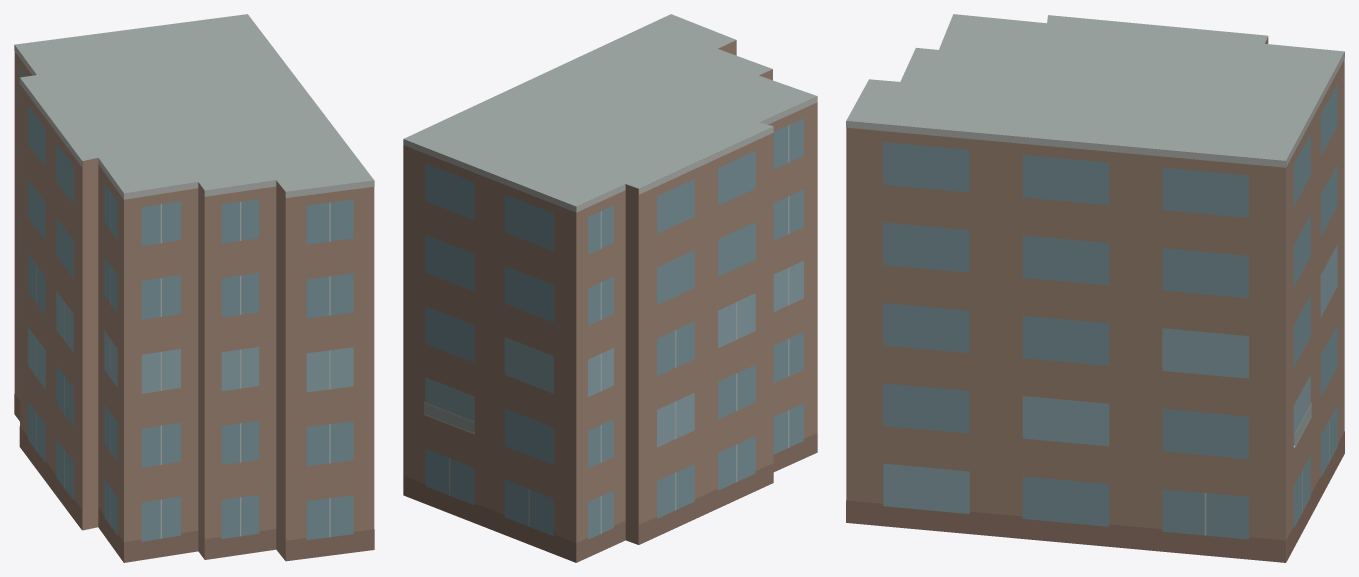
File: survey-upis-32617421.glb
3 views of the same model, side by side, from view 1: azimuth 30°, elevation 25°; view 2: azimuth 150°, elevation 25°; view 3: azimuth 270°, elevation 25° (orthographic). The views are drawn at different scales.
Parts seen in each view (by area): view 1: survey-upis-32617421.tmp; view 2: survey-upis-32617421.tmp; view 3: survey-upis-32617421.tmp.
Part boxes in pixels (<box>): survey-upis-32617421.tmp: <box>14,14,374,562</box>; survey-upis-32617421.tmp: <box>403,14,817,562</box>; survey-upis-32617421.tmp: <box>846,14,1344,562</box>.
Size of the model in its own units: 11.22 by 14.3 by 16.09.
